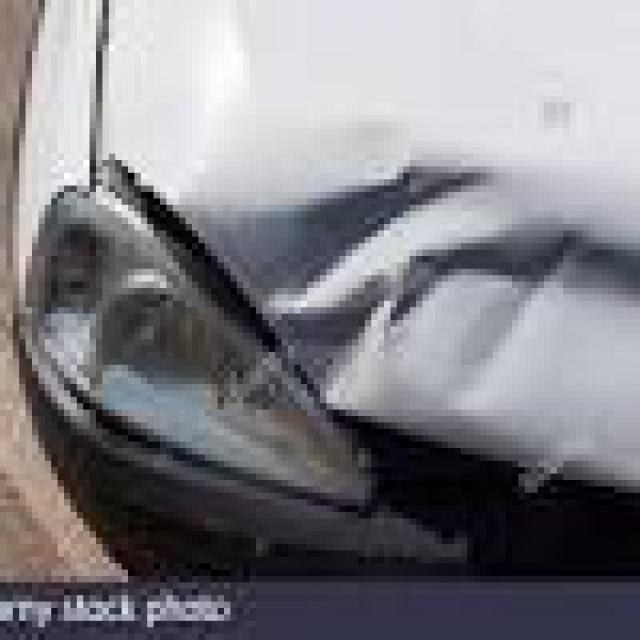bonnet-dent: (71, 0, 634, 467)
